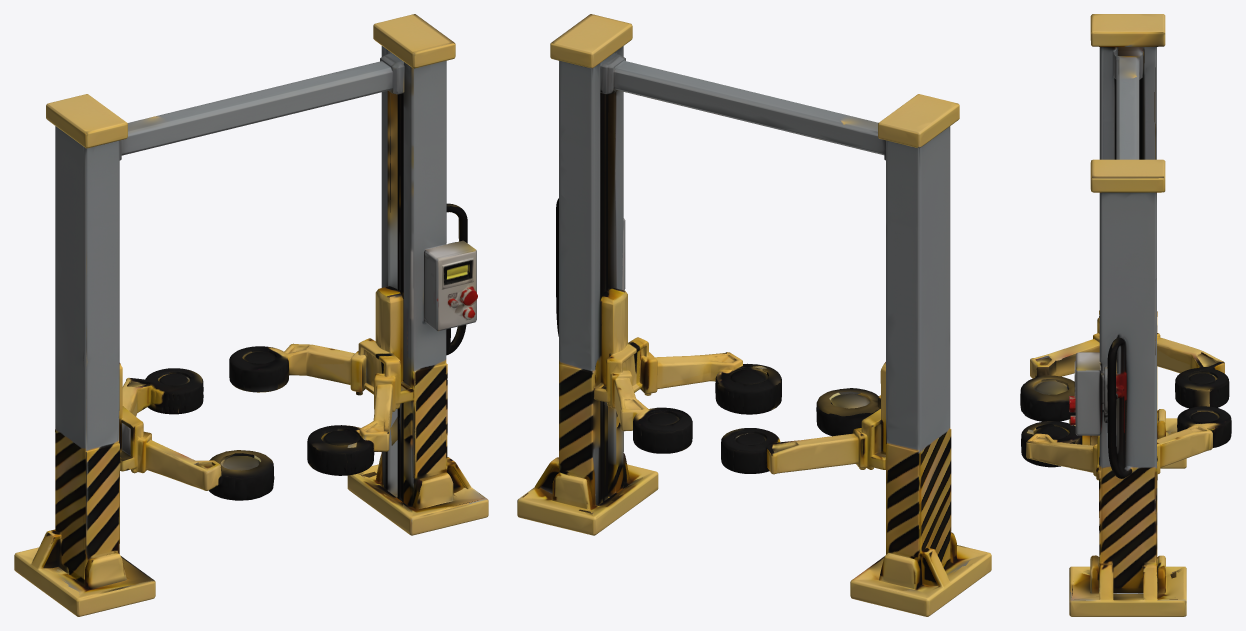
The model's file is RepairLift.fbx.
3 renders of one model, left to right at view 1: azimuth 30°, elevation 25°; view 2: azimuth 150°, elevation 25°; view 3: azimuth 270°, elevation 25°, orthographic. The views are drawn at different scales.
Visible parts, largest first — view 1: texture_pbr_v128; view 2: texture_pbr_v128; view 3: texture_pbr_v128.
Boxes of the visible parts, x1,y1,x2,y2 form: texture_pbr_v128: (14, 14, 488, 616); texture_pbr_v128: (517, 14, 991, 616); texture_pbr_v128: (1020, 14, 1231, 616).
Bounding box in the file's own units: 80.3 × 87.64 × 39.04.
Materials: 1 (1 with a texture image).
